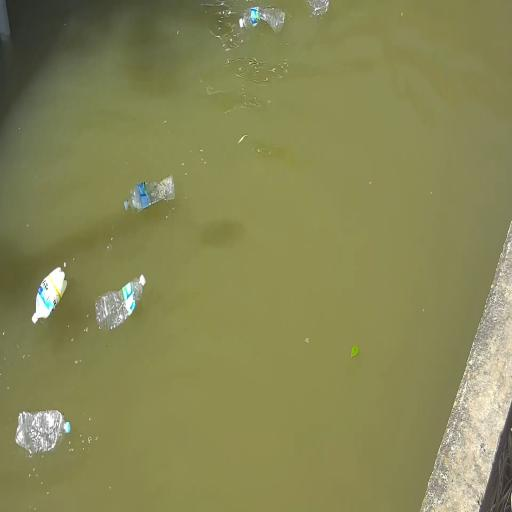plastic: (96, 275, 145, 329), (16, 410, 70, 454), (32, 267, 67, 324), (125, 176, 174, 211), (239, 7, 285, 32)
